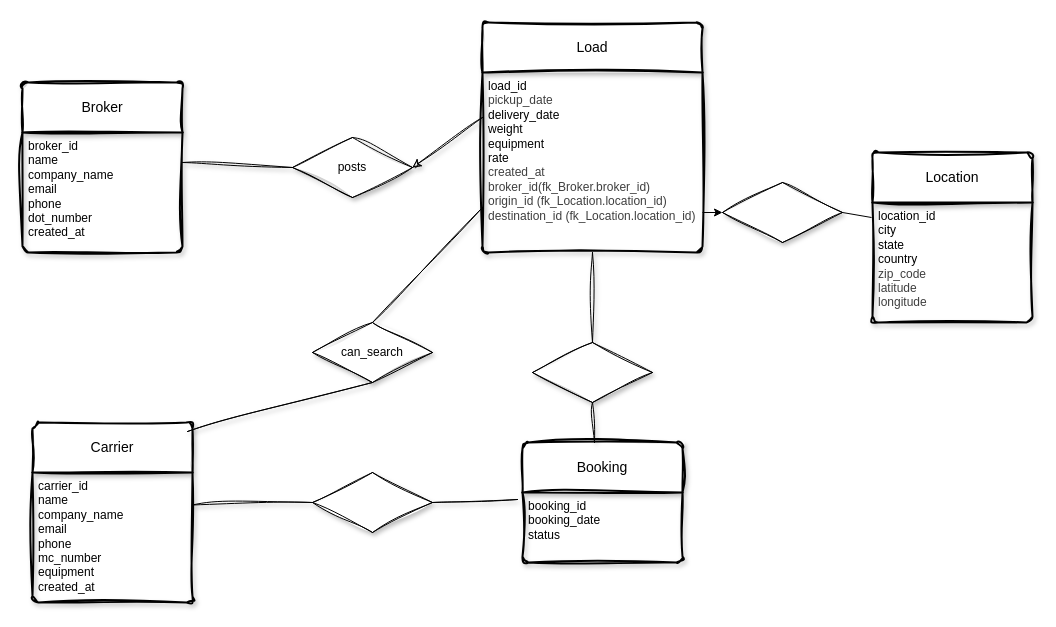
Image size: 1056x627. Some labels were removed from this diagram. Each missing label, with the centre of its shape:
booked_via: the point at 593,374
is_at: the point at 783,214
made by: the point at 373,504
